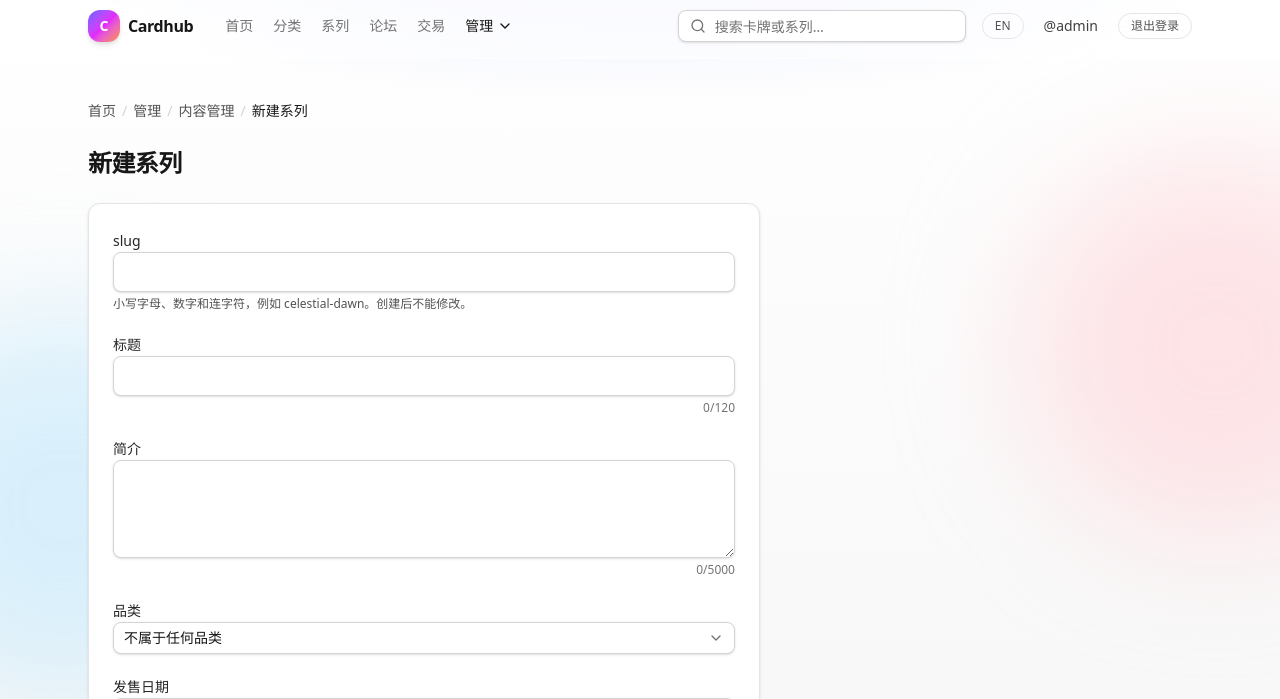
series form › translates an image-url refine from its zod code
In the field labelled "slug": [424, 272] box [113,252,735,292], type "new-series"
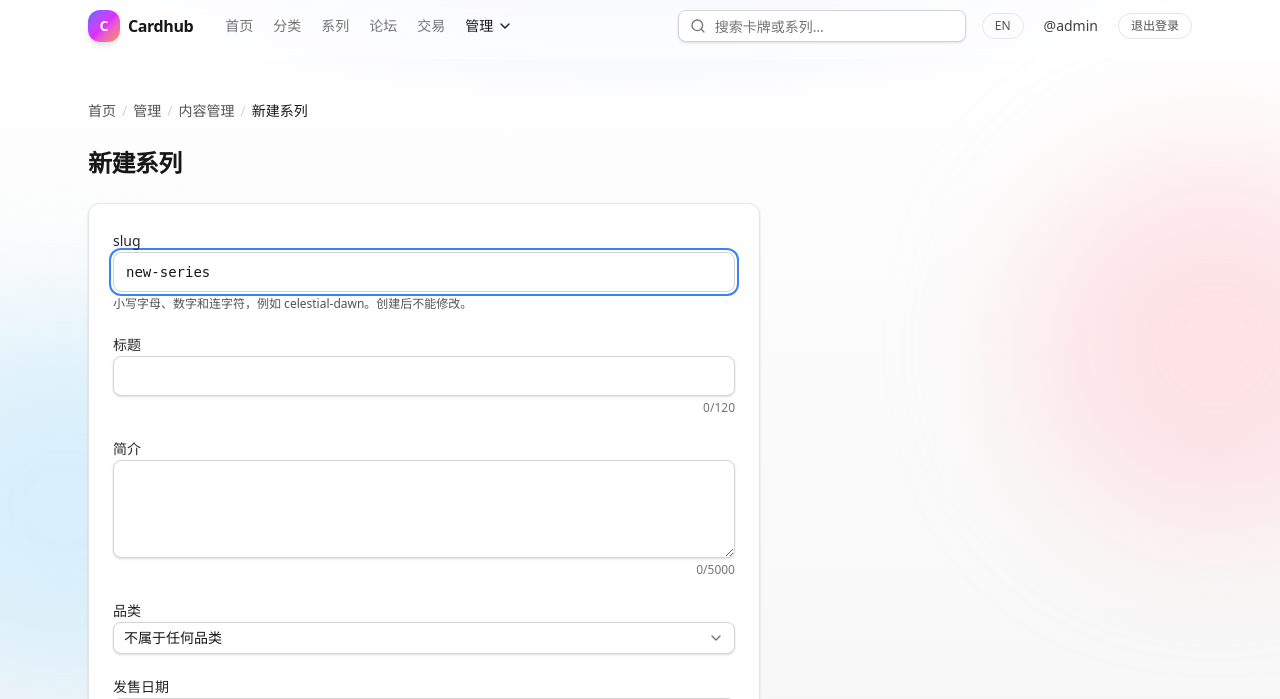
In the field labelled "标题": [424, 376] box [113,356,735,396], type "新系列"
(page scrolled)
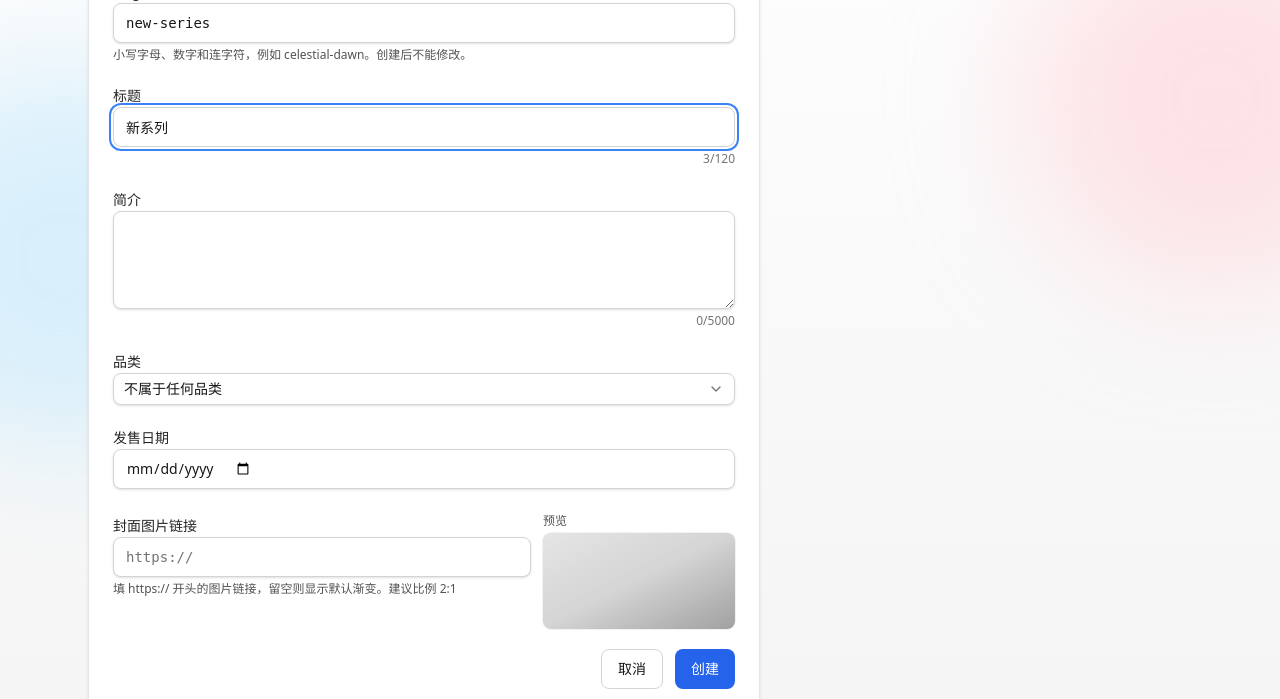
Click the button "创建": [705, 669] box [675,649,735,689]
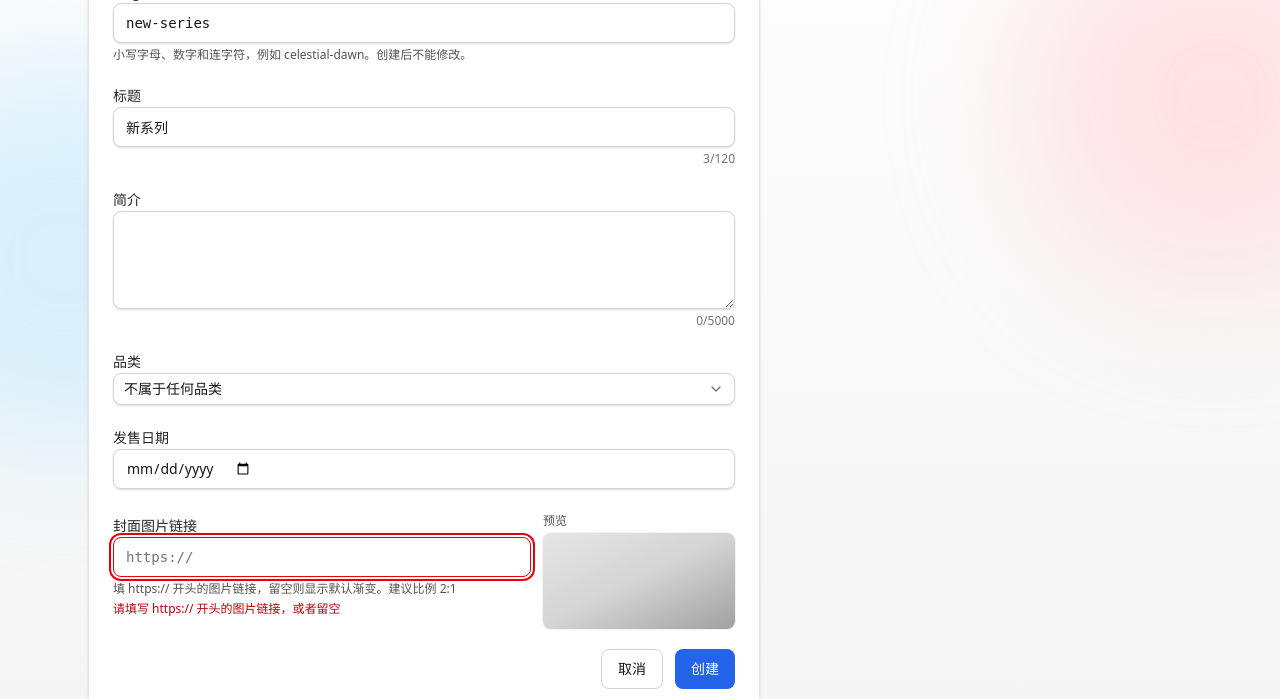
Expected: the text "请填写 https:// 开头的图片链接，或者留空" is shown, [113,600,341,617]
